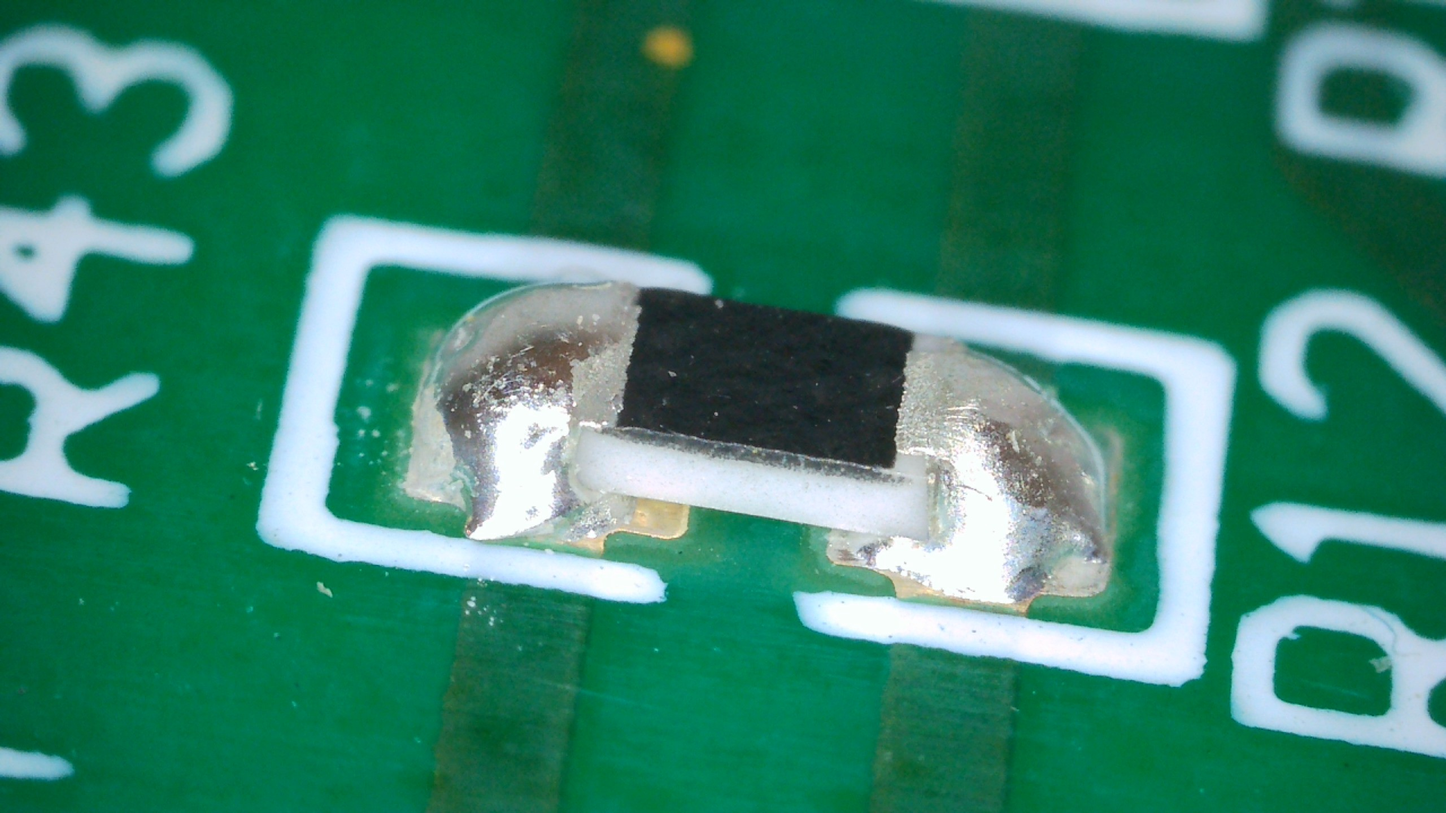NG: (825, 337, 1107, 603), (408, 282, 643, 543)
